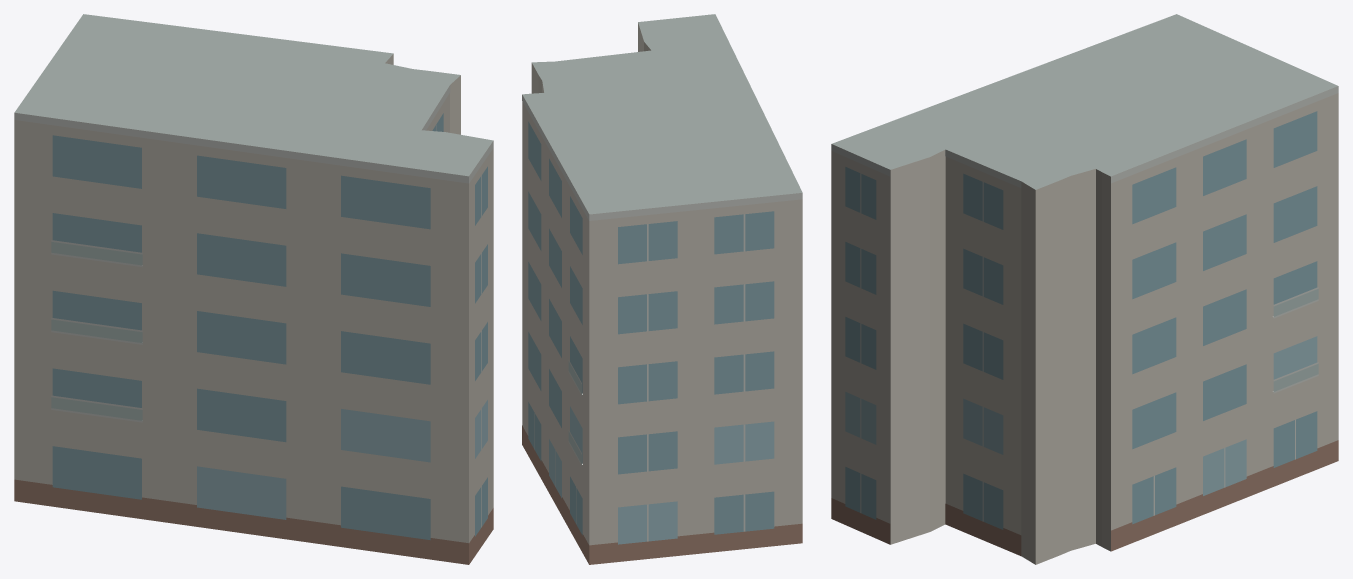
Rendered from survey-upis-32881711.glb.
3 views of the same model, side by side, from view 1: azimuth 30°, elevation 25°; view 2: azimuth 150°, elevation 25°; view 3: azimuth 270°, elevation 25° (orthographic). The views are drawn at different scales.
Parts seen in each view (by area): view 1: survey-upis-32881711.tmp; view 2: survey-upis-32881711.tmp; view 3: survey-upis-32881711.tmp.
Part boxes in pixels (x1=…): survey-upis-32881711.tmp: x1=14, y1=14, x2=493, y2=564; survey-upis-32881711.tmp: x1=522, y1=14, x2=802, y2=564; survey-upis-32881711.tmp: x1=831, y1=14, x2=1338, y2=564.
Size of the model in its own units: 13.19 by 13.1 by 16.06.
